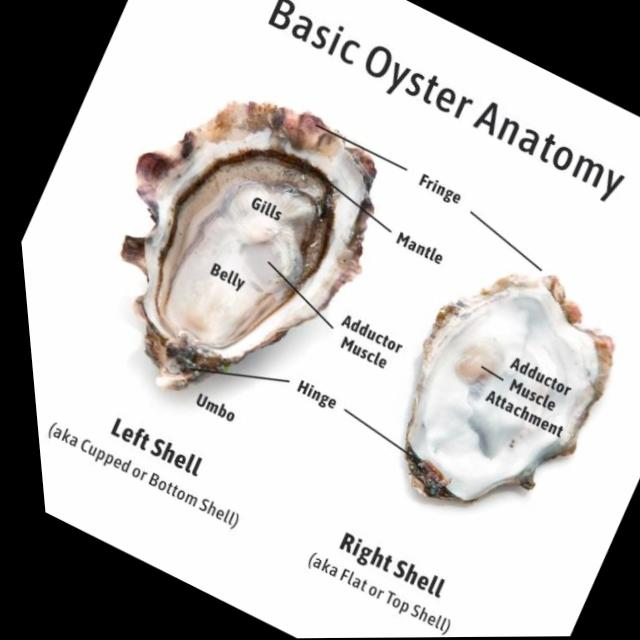Oyster-Open: (35, 48, 435, 452), (347, 232, 640, 549)
